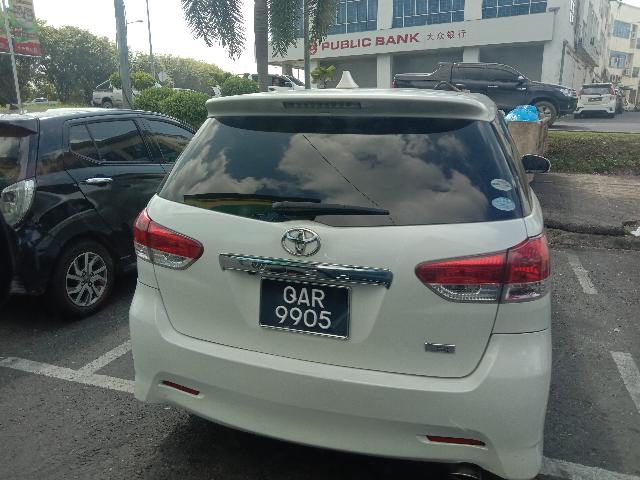License_Plate: (261, 278, 353, 341)
car: (131, 95, 586, 480)
